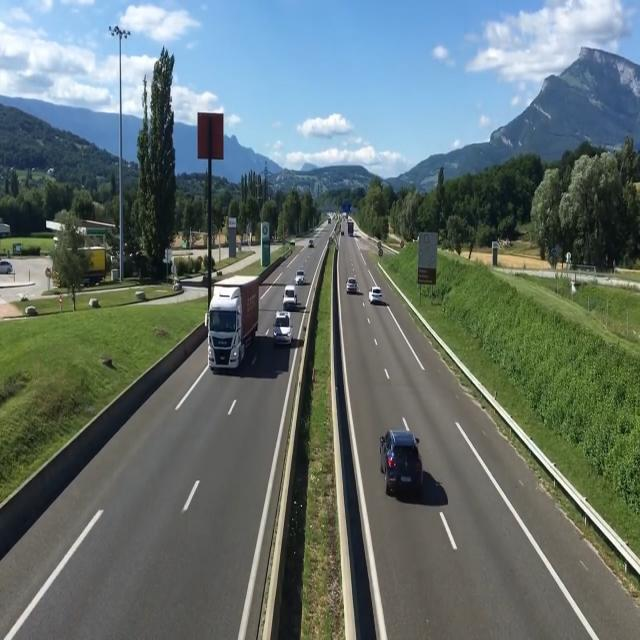car: (382, 424, 429, 511), (270, 307, 294, 349), (280, 283, 300, 306), (369, 284, 384, 307), (348, 275, 360, 298), (295, 265, 308, 285)
truck: (207, 280, 250, 370)
